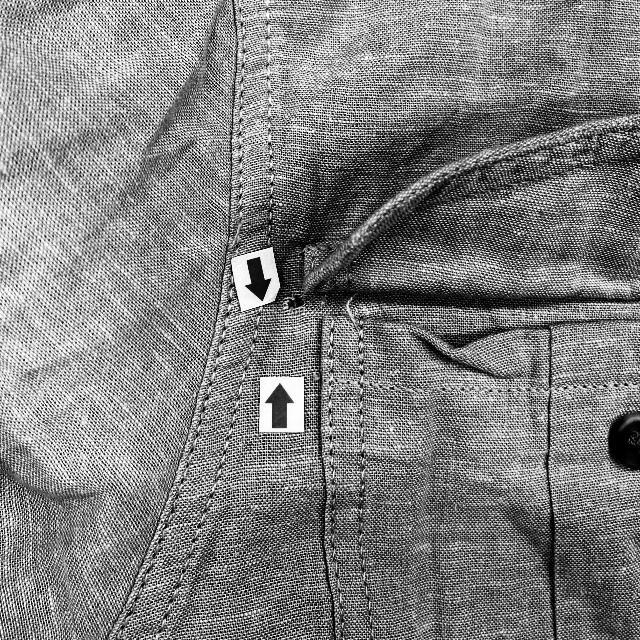Hole: (286, 288, 312, 316)
